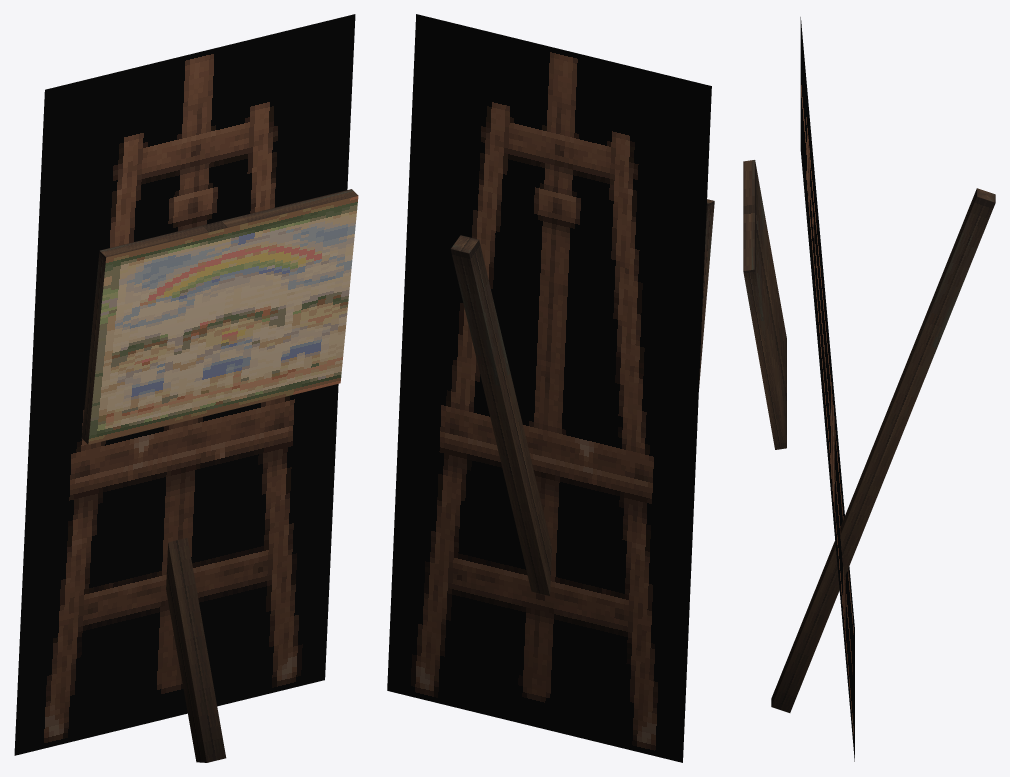
File: prop_easel-1.glb
3 renders of one model, left to right at view 1: azimuth 30°, elevation 25°; view 2: azimuth 150°, elevation 25°; view 3: azimuth 270°, elevation 25°, orthographic. The views are drawn at different scales.
Parts seen in each view (by area): view 1: prop_easel-1; view 2: prop_easel-1; view 3: prop_easel-1.
Part boxes in pixels (x1,y1,x2,y2): prop_easel-1: [14, 14, 358, 762]; prop_easel-1: [387, 14, 714, 762]; prop_easel-1: [743, 17, 995, 761].
Bounding box in the file's own units: 0.8 × 1.73 × 0.6315.
3 materials, 3 textured.
